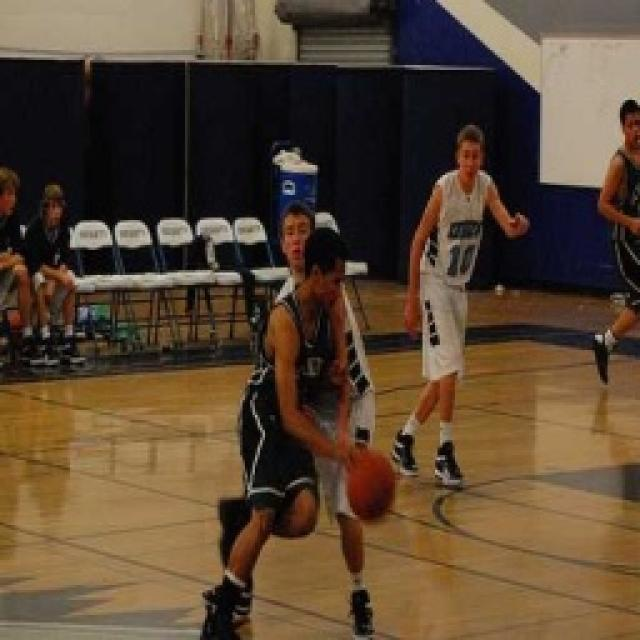rim: (346, 448, 399, 524)
